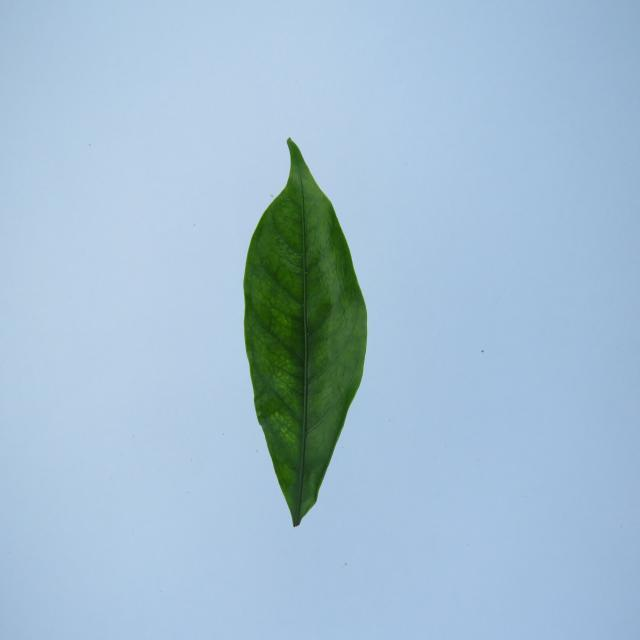DeficienciaNutricional-Hierro: (244, 138, 368, 527)
